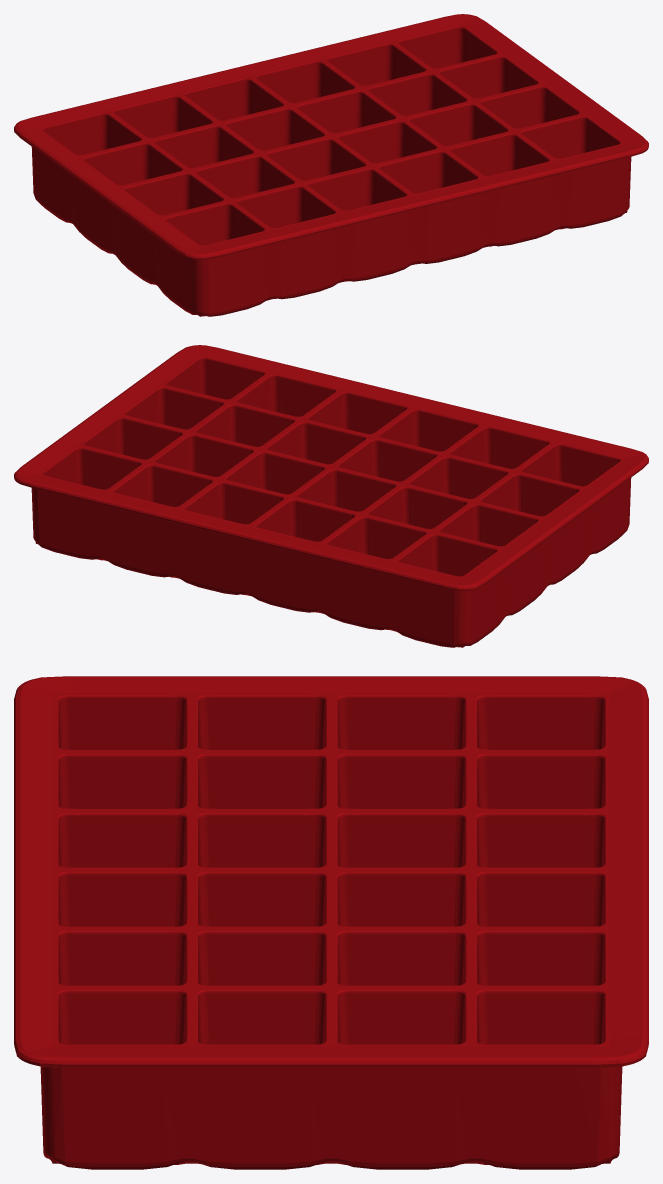
3 renders of one model, top to bottom at view 1: azimuth 30°, elevation 25°; view 2: azimuth 150°, elevation 25°; view 3: azimuth 270°, elevation 25°, orthographic. The views are drawn at different scales.
Visible parts, largest first — view 1: Molded tray body; view 2: Molded tray body; view 3: Molded tray body.
Boxes of the visible parts, x1,y1,x2,y2 form: Molded tray body: (14, 14, 648, 316); Molded tray body: (14, 345, 648, 647); Molded tray body: (14, 676, 648, 1169).
Size of the model in its own units: 0.19 by 0.0285 by 0.132.
